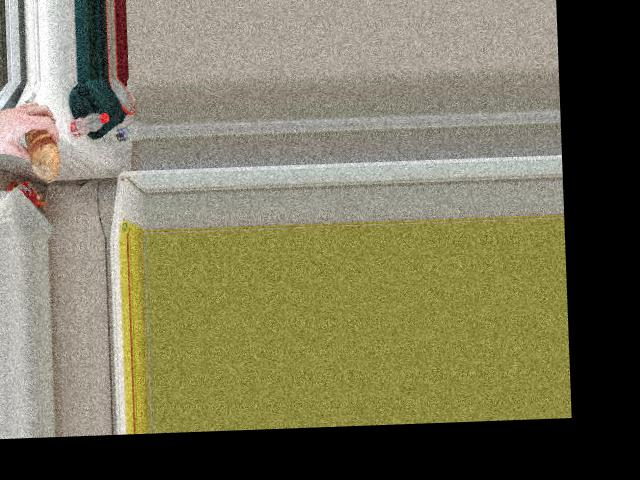sweet_potato: (16, 123, 62, 170)
